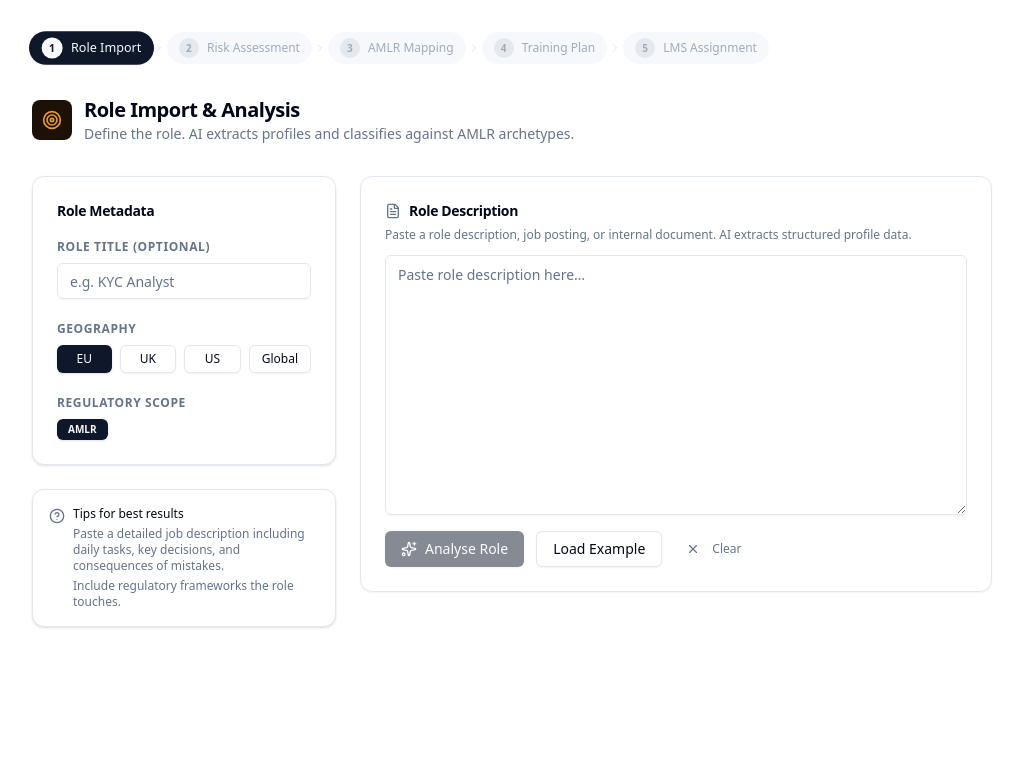
it: RoleImport — Active Pipeline › shows clarification questions after analysis
The width and height of the screenshot is (1024, 768).
Expected: the heading "Role Import & Analysis" is shown, left=84, top=96, right=300, bottom=123
In the text box with placeholder "Paste role description here…": (676, 385) left=385, top=255, right=967, bottom=515, type "KYC Analyst reviews high-risk clients."
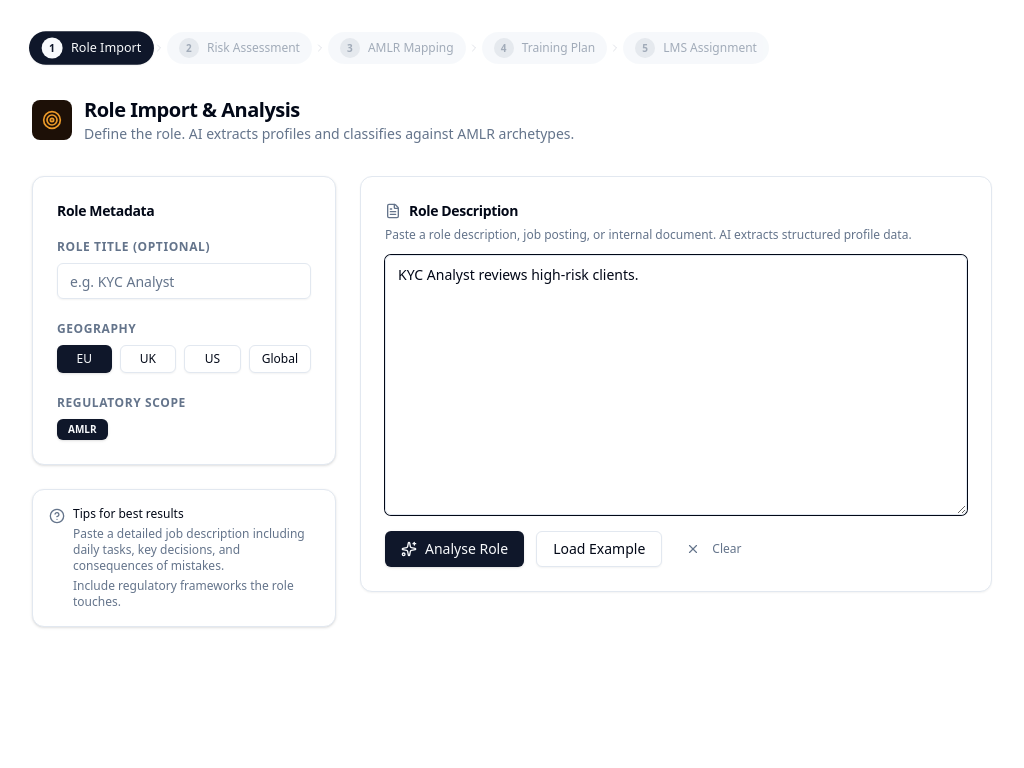
Click the button "Analyse Role": (455, 549) left=385, top=531, right=524, bottom=567
(page scrolled)
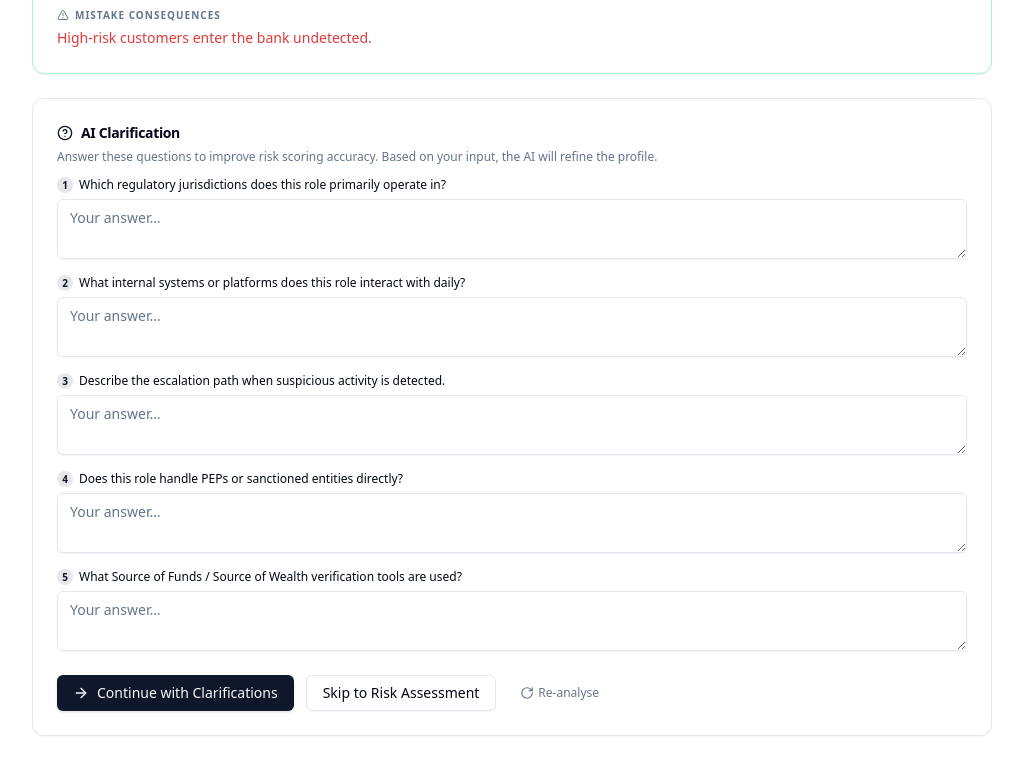
Now the heading "AI Clarification" is shown, box left=81, top=123, right=180, bottom=143
Now the button "Continue with Clarifications" is shown, box left=57, top=675, right=294, bottom=711
